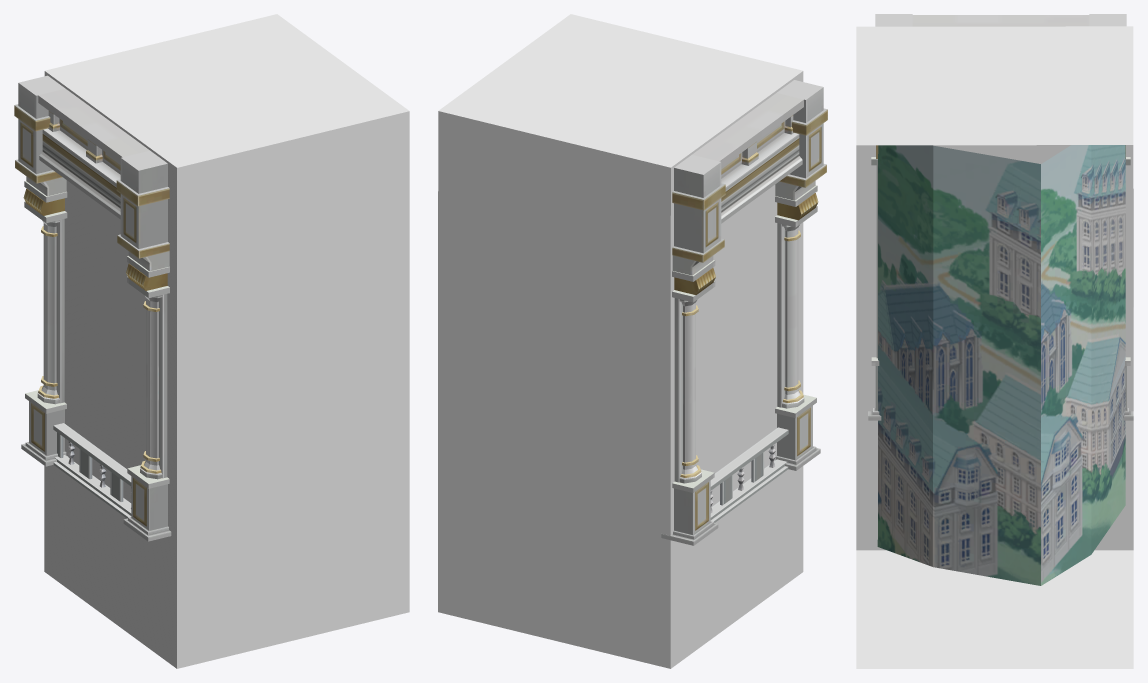
File: my_teaparty_01_window_03.glb
3 views of the same model, side by side, from view 1: azimuth 30°, elevation 25°; view 2: azimuth 150°, elevation 25°; view 3: azimuth 270°, elevation 25° (orthographic). The views are drawn at different scales.
Parts seen in each view (by area): view 1: my_teaparty_01_window_03_cover, my_teaparty_01_window_03, my_teaparty_01_window_03_hole; view 2: my_teaparty_01_window_03_cover, my_teaparty_01_window_03, my_teaparty_01_window_03_hole; view 3: my_teaparty_01_window_03_sky, my_teaparty_01_window_03_cover, my_teaparty_01_window_03.
Boxes of the visible parts, left/top/right/bottom form: my_teaparty_01_window_03_cover: left=44, top=14, right=409, bottom=668; my_teaparty_01_window_03: left=14, top=75, right=171, bottom=541; my_teaparty_01_window_03_hole: left=64, top=180, right=145, bottom=502; my_teaparty_01_window_03_cover: left=438, top=14, right=803, bottom=668; my_teaparty_01_window_03: left=661, top=80, right=827, bottom=545; my_teaparty_01_window_03_hole: left=696, top=185, right=777, bottom=506; my_teaparty_01_window_03_sky: left=877, top=145, right=1125, bottom=585; my_teaparty_01_window_03_cover: left=856, top=26, right=1133, bottom=668; my_teaparty_01_window_03: left=868, top=14, right=1133, bottom=420.
Bounding box in the file's own units: 0.0338 × 0.0612 × 0.0294.
Materials: 4 (2 with a texture image).
